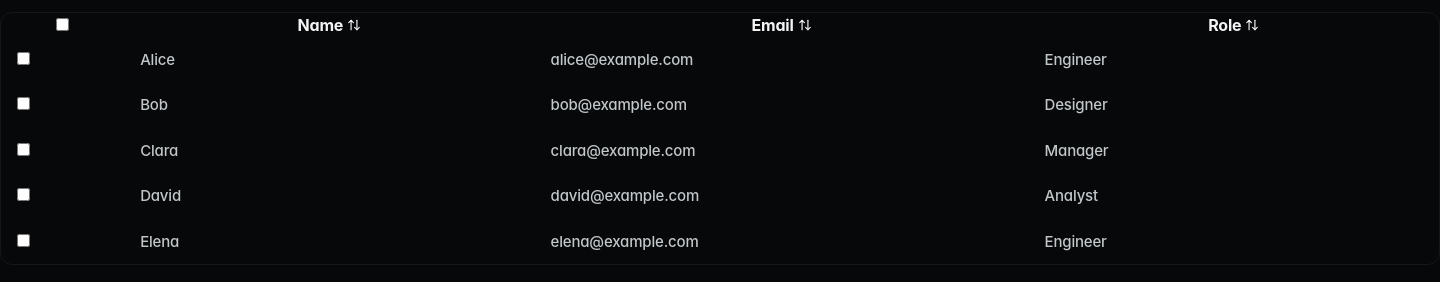
Test: DataTable › row selection › selects all rows via header checkbox
// Click the "select all" checkbox
Click the checkbox named "Select all rows": (63, 24) left=56, top=18, right=69, bottom=31
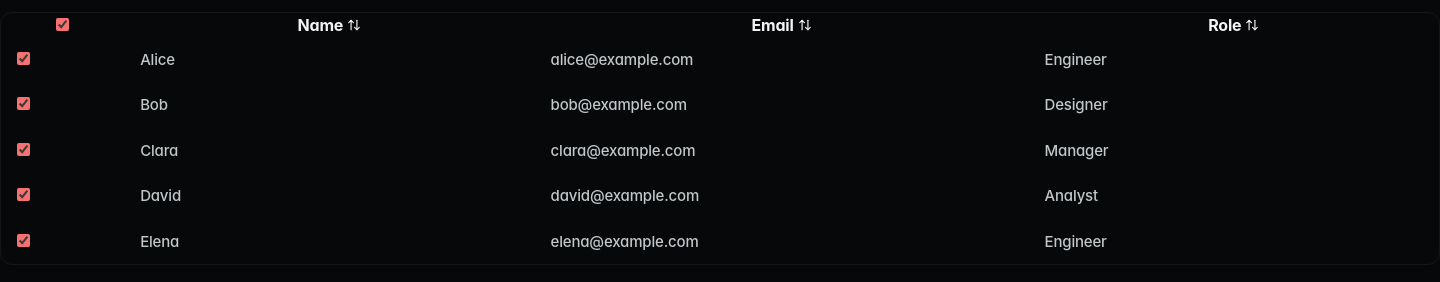
Result: the checkbox named "Select row 1" is checked at left=17, top=52, right=30, bottom=65
Result: the checkbox named "Select row 2" is checked at left=17, top=97, right=30, bottom=110
Result: the checkbox named "Select row 3" is checked at left=17, top=143, right=30, bottom=156
